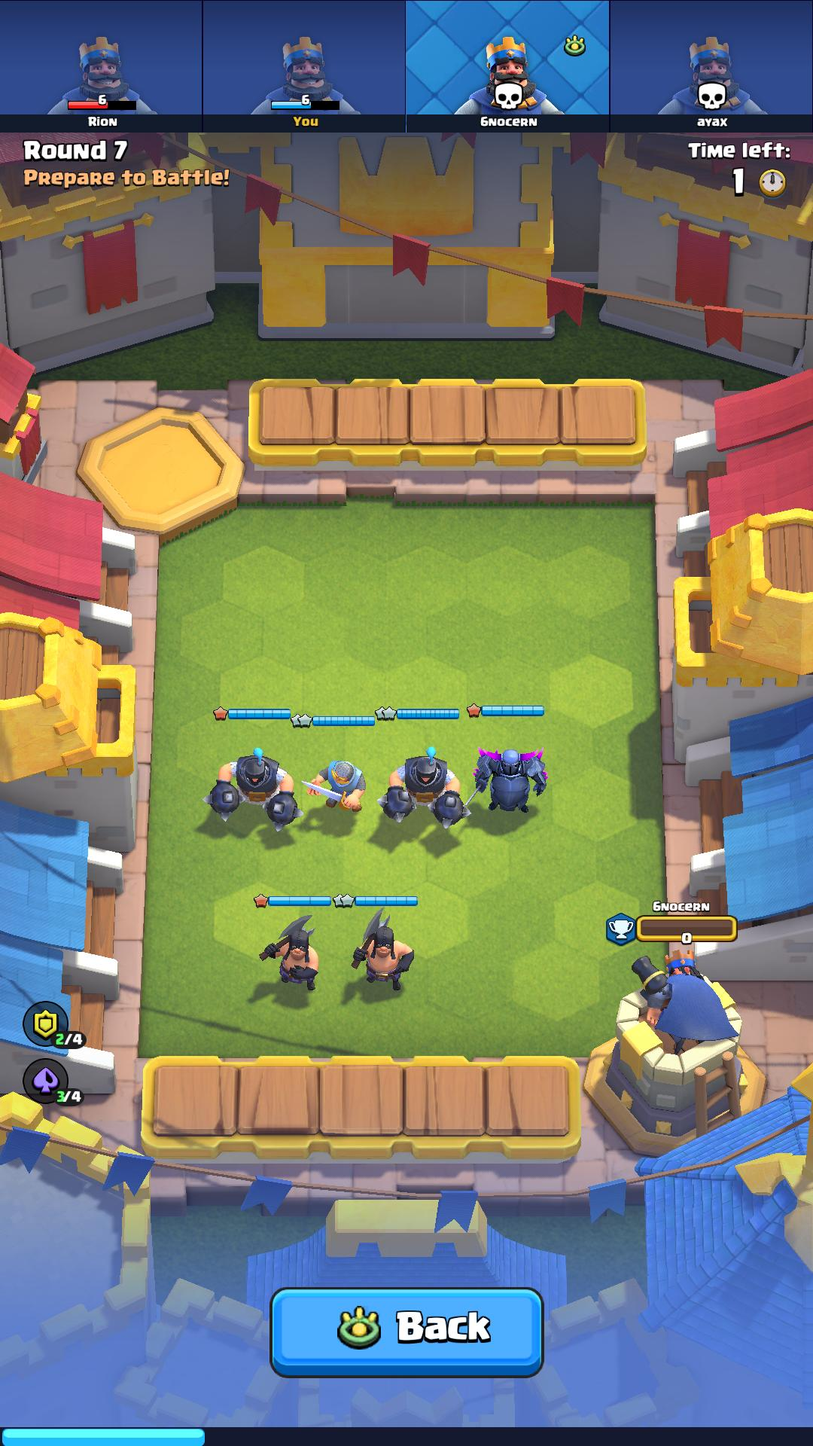executioner: (348, 908, 415, 995), (259, 912, 326, 990)
knight: (300, 752, 371, 821)
mega: (199, 750, 305, 834), (380, 743, 472, 835)
pekka: (468, 738, 548, 826)
